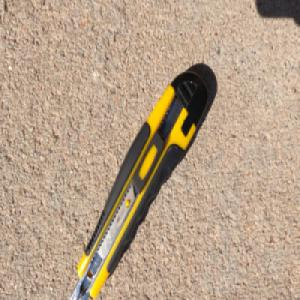Cutter: (68, 66, 208, 300)
